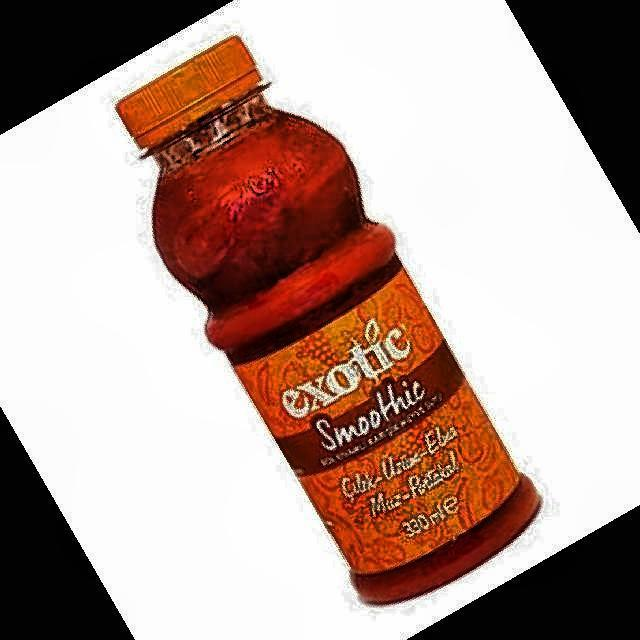plastic: (118, 38, 540, 603)
